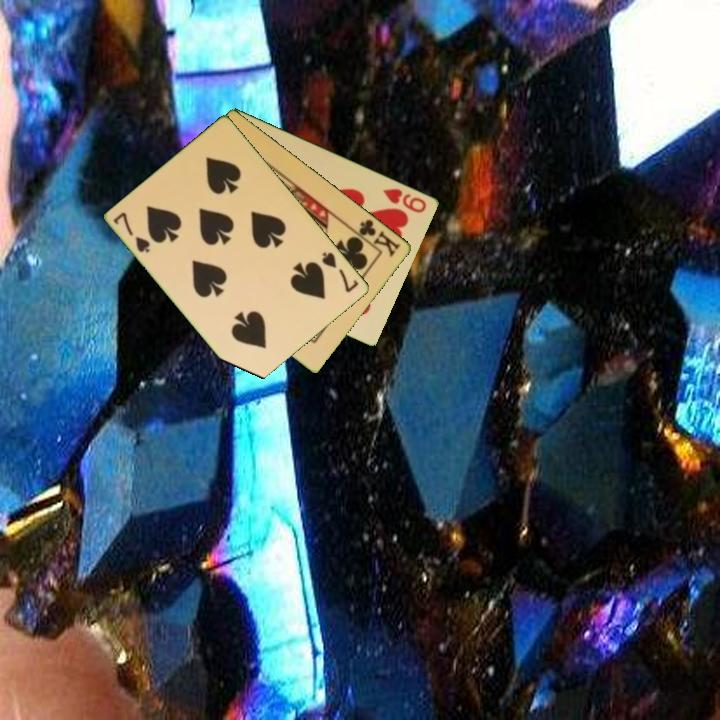7s: (318, 248, 362, 296), (110, 208, 154, 256)
9h: (380, 185, 430, 216)
Kc: (350, 215, 404, 260)
